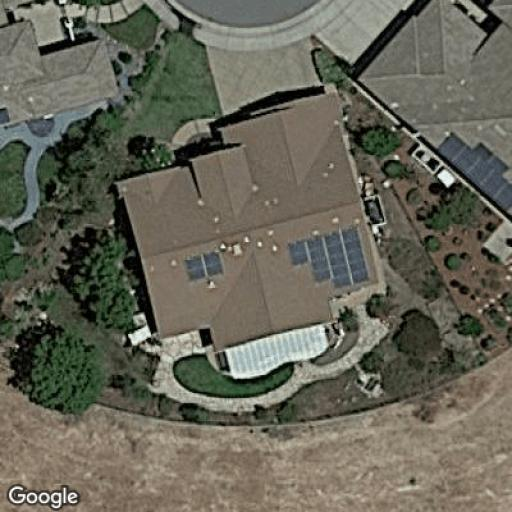solar-panel: (438, 128, 512, 212), (287, 224, 370, 288), (183, 247, 225, 285), (0, 102, 15, 126)
